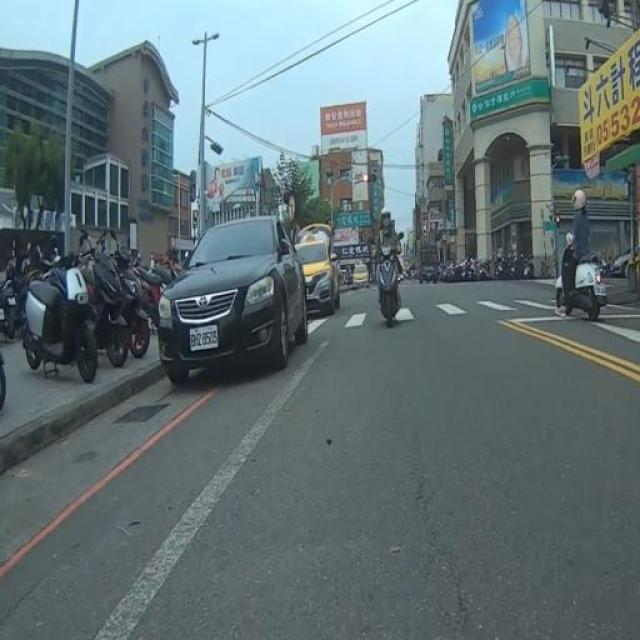Legalparking: (0, 217, 161, 414)
illegalparking: (138, 199, 346, 382)
